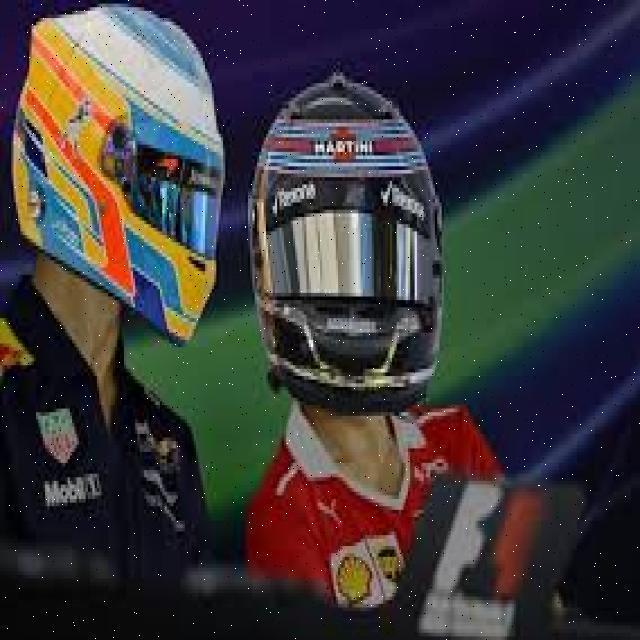helmet: (18, 8, 226, 350), (252, 70, 446, 422)
